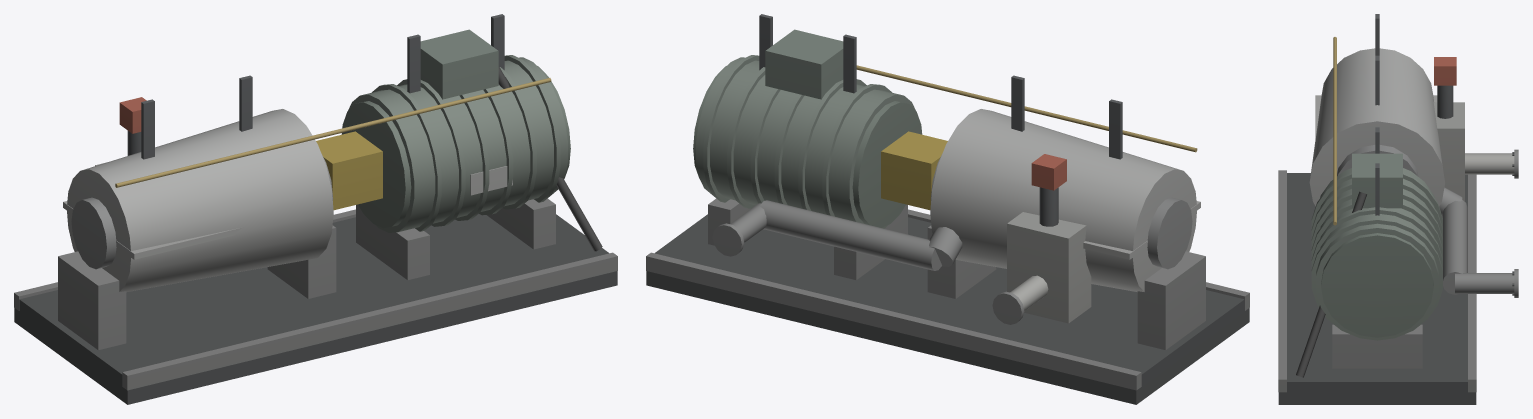
The model's file is turbineSet_steel.glb.
The picture shows the model from 3 angles, left to right: view 1: azimuth 30°, elevation 25°; view 2: azimuth 150°, elevation 25°; view 3: azimuth 270°, elevation 25°; orthographic projection. The views are drawn at different scales.
Visible parts, largest first — view 1: turbineSet_steel; view 2: turbineSet_steel; view 3: turbineSet_steel.
Boxes of the visible parts, x1,y1,x2,y2 form: turbineSet_steel: (14, 14, 617, 404); turbineSet_steel: (646, 14, 1249, 404); turbineSet_steel: (1278, 14, 1518, 404).
Size of the model in its own units: 3.5 by 1.66 by 1.7.
